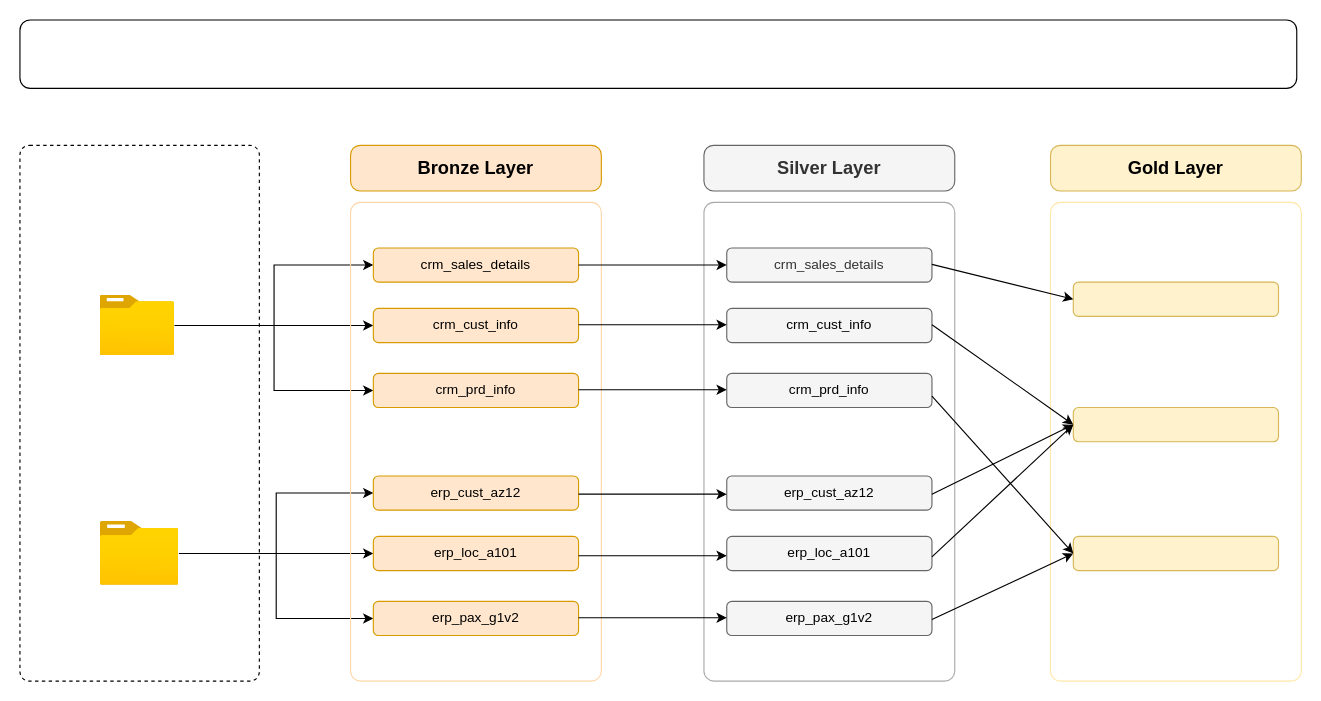
This 1321x701 diagram has some shape labels left out. The centre of each missing label's shape, as x and y in pixels:
CRM: the point at 137,325
DATA FLOW DIAGRAM: the point at 658,53
dim_customers: the point at 1175,424
dim_products: the point at 1175,553
ER P: the point at 139,553
fact_sales: the point at 1175,298
